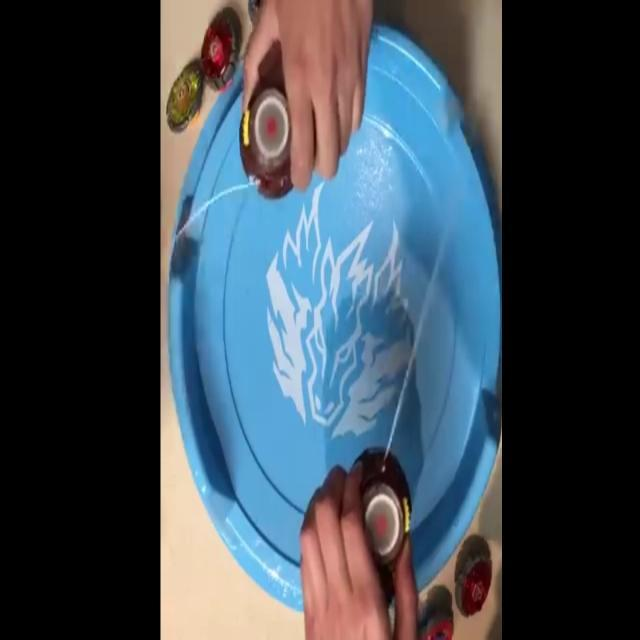Beyblade: (200, 19, 240, 92), (166, 66, 203, 134), (456, 550, 491, 616)
